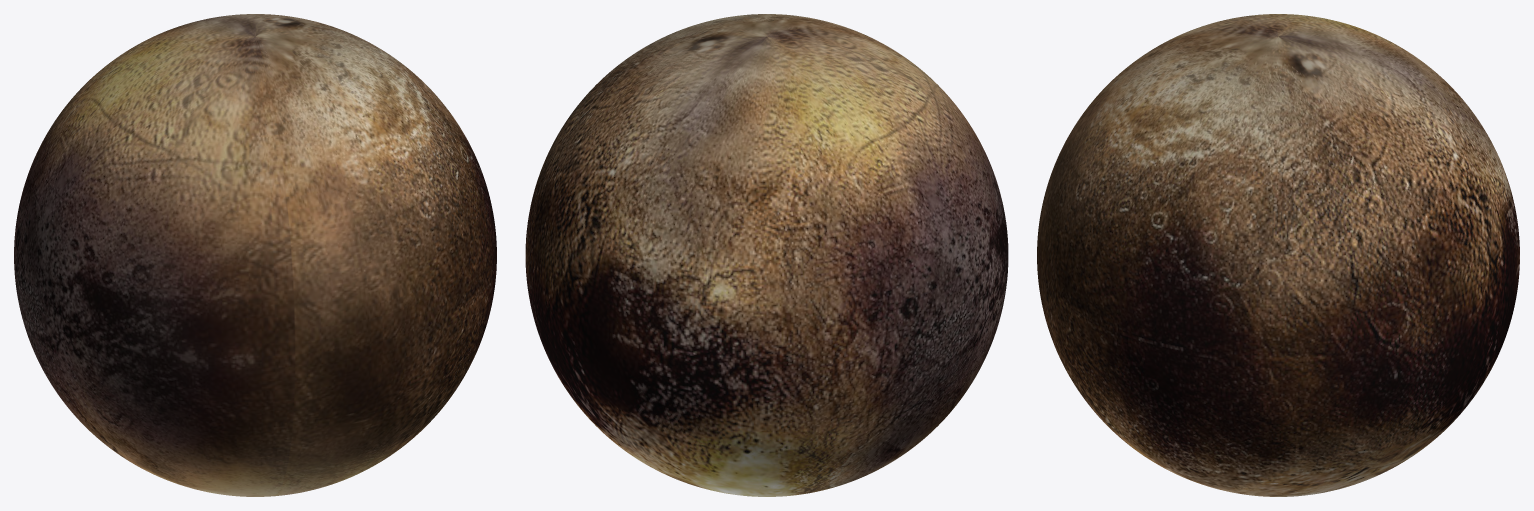
Rendered from pluto.obj.
3 renders of one model, left to right at view 1: azimuth 30°, elevation 25°; view 2: azimuth 150°, elevation 25°; view 3: azimuth 270°, elevation 25°, orthographic.
Parts seen in each view (by area): view 1: Sphere001; view 2: Sphere001; view 3: Sphere001.
Part boxes in pixels (bbox=[...]): Sphere001: bbox=[14, 14, 496, 496]; Sphere001: bbox=[525, 14, 1008, 496]; Sphere001: bbox=[1037, 14, 1519, 496].
Size of the model in its own units: 117 by 117 by 117.
Materials: 1 (1 with a texture image).
